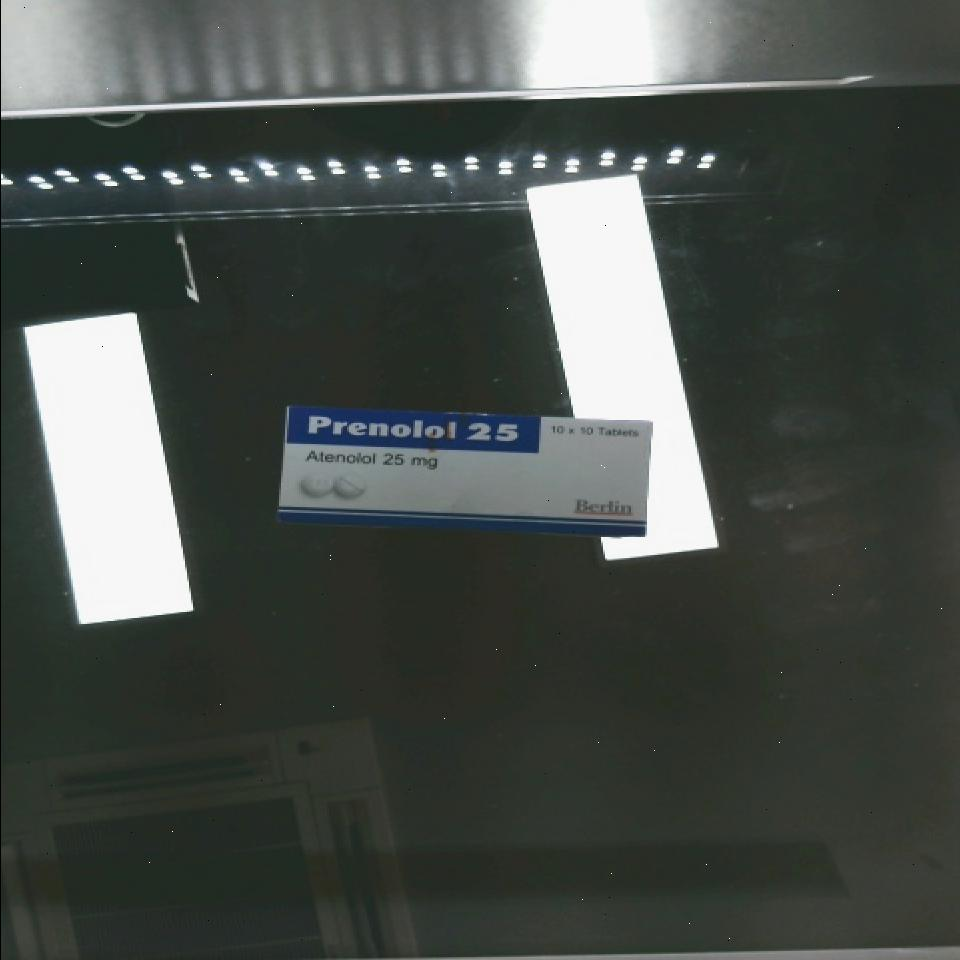medicine_box: (274, 403, 654, 537)
medicine_label_obb: (292, 407, 542, 451)
